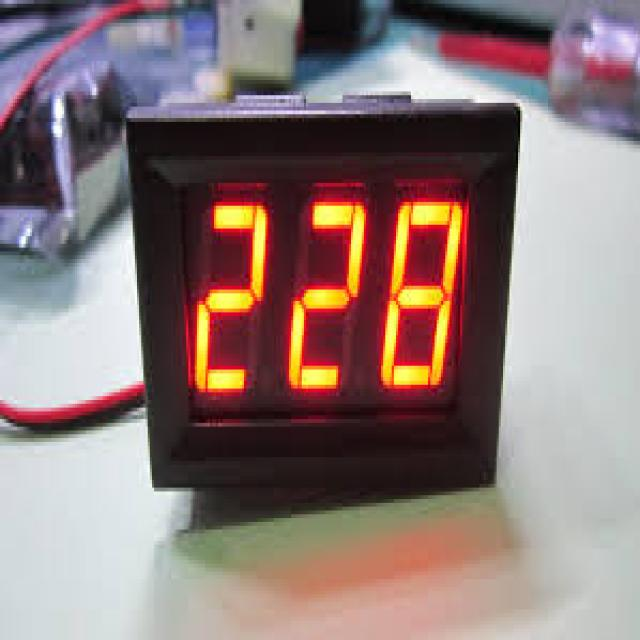2: (178, 177, 280, 408), (285, 178, 380, 414)
8: (385, 177, 475, 403)
screen: (177, 178, 468, 424)
